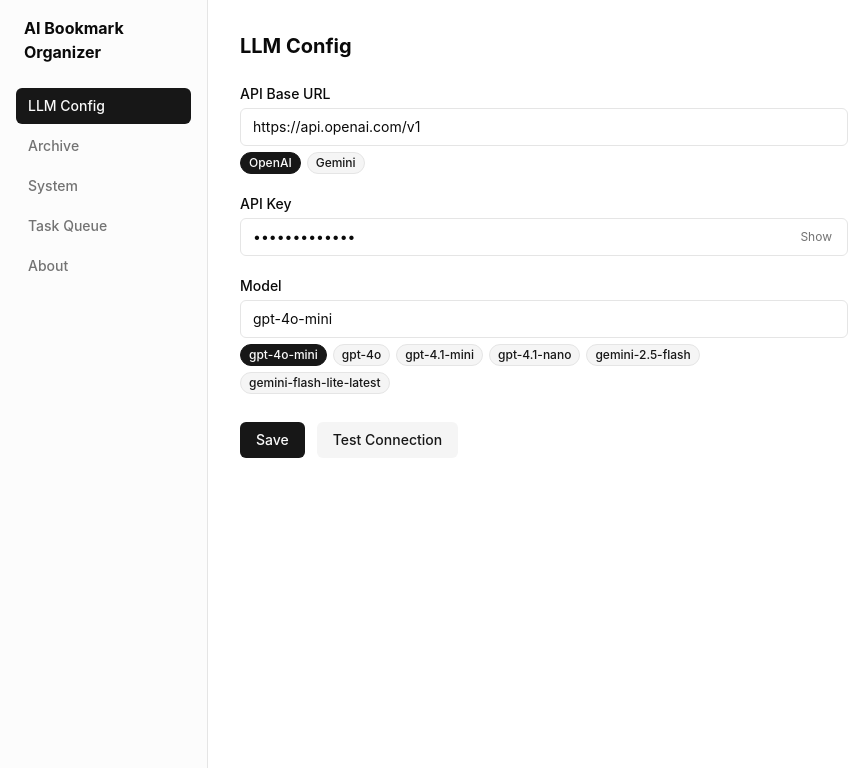
Test: Options Page › test connection failure shows error toast
The image size is (865, 768).
Expected: the field labelled "API Base URL" is shown, [240,108,848,146]
Click the button "Test Connection": (388, 440) [317,422,458,458]
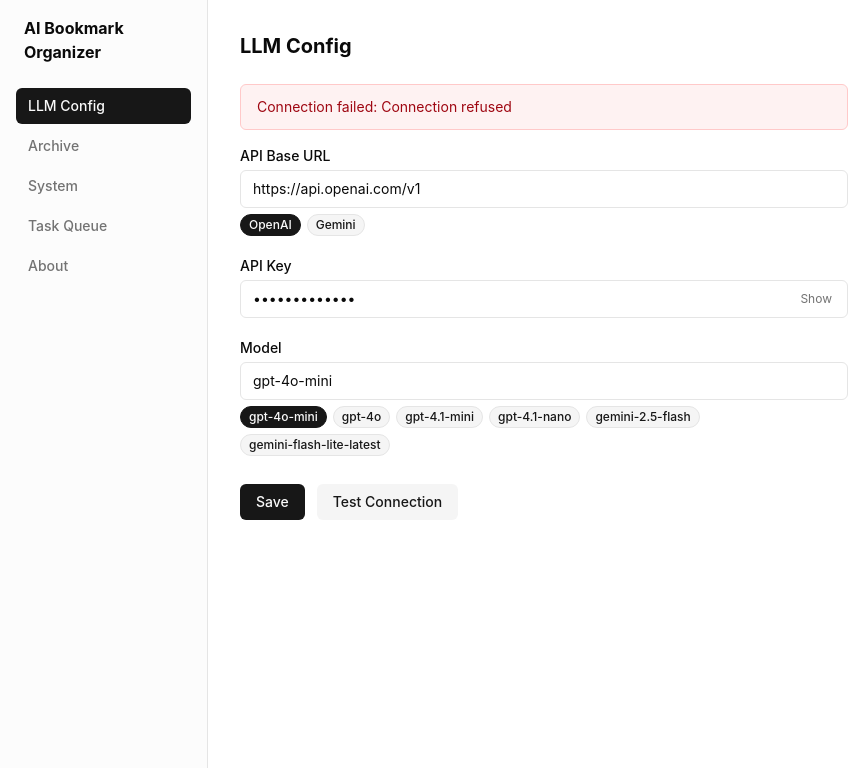
Expected: the message shows "failed", [257,98,512,115]
